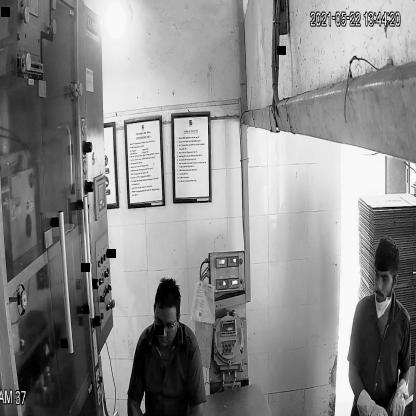goggles: (150, 312, 180, 337)
no_goggles: (372, 268, 396, 287)
